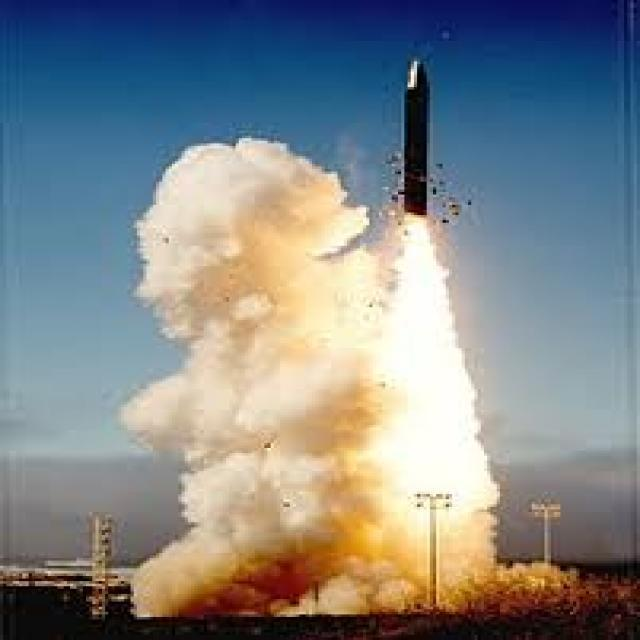missile: (392, 52, 435, 220)
